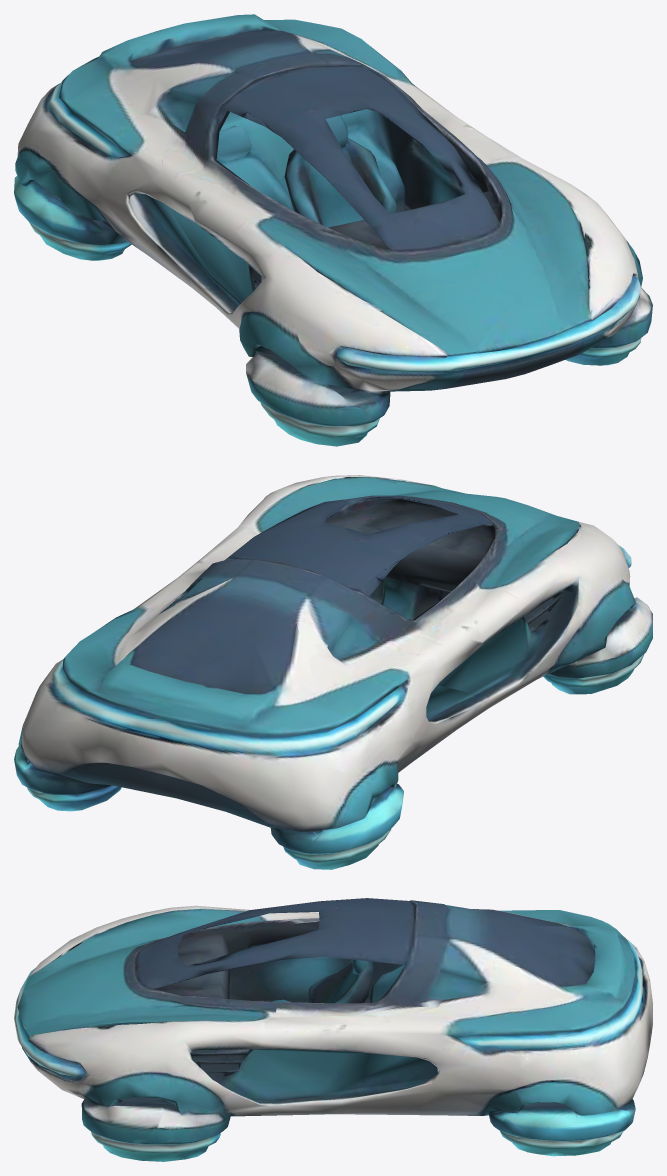
The model's file is hover-car.glb.
3 views of the same model, one above another, from view 1: azimuth 30°, elevation 25°; view 2: azimuth 150°, elevation 25°; view 3: azimuth 270°, elevation 25° (orthographic). The views are drawn at different scales.
Parts seen in each view (by area): view 1: hover-car; view 2: hover-car; view 3: hover-car.
Part boxes in pixels (x1,y1,x2,y2): hover-car: [14, 14, 652, 446]; hover-car: [14, 475, 652, 869]; hover-car: [14, 898, 652, 1161].
Bounding box in the file's own units: 3.26 × 1.6 × 5.39.
1 material, 1 textured.
